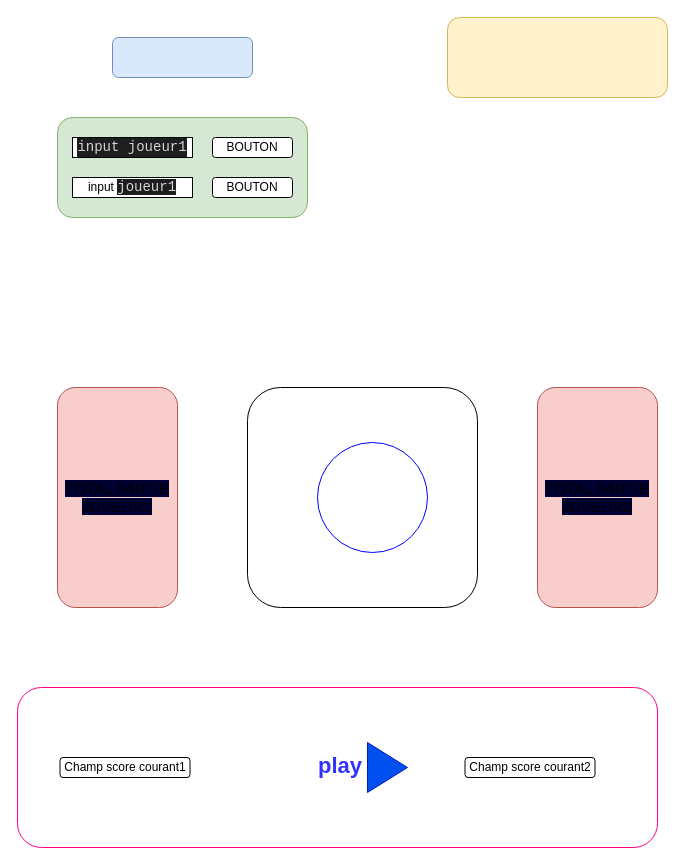
The diagram is 685 pixels wide and 865 high, and some of its shapes have lost their labels. Each missing label, with the centre of its shape:
BOUTON NEWGAME: the point at 182,57
ECRAN MESSAGE GAIN JOUEUR SUR UNE LANCER: the point at 557,57
IMAGE D'UN Dé animé par click play: the point at 372,497
